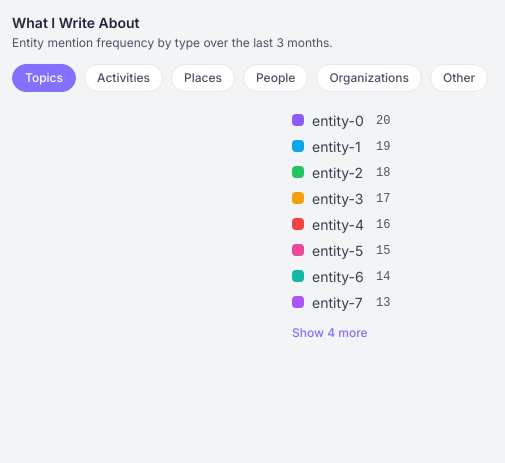
Test: EntityDistributionChart › expands and collapses the entity legend
Click the button with test id "dashboard-entity-legend-toggle": x=330, y=333 [292,324,368,342]
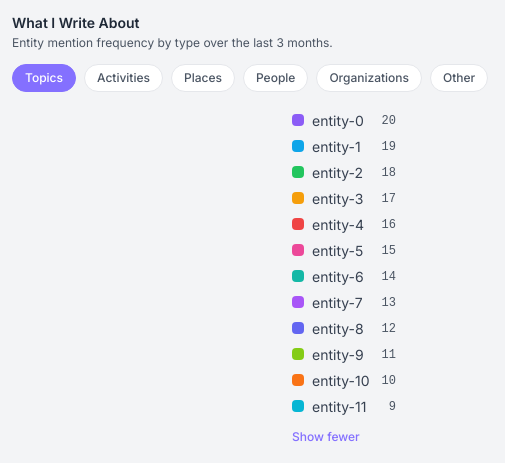
Result: the number of rows is 12
Result: the button with test id "dashboard-entity-legend-toggle" reads "Show fewer"
Click the button with test id "dashboard-entity-legend-toggle": x=326, y=437 [292,428,360,446]
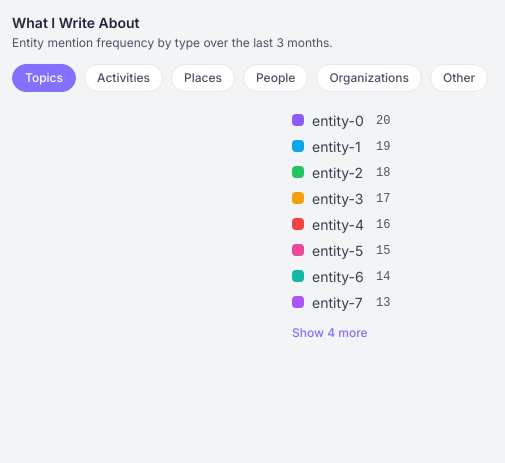
Result: the number of rows is 8
